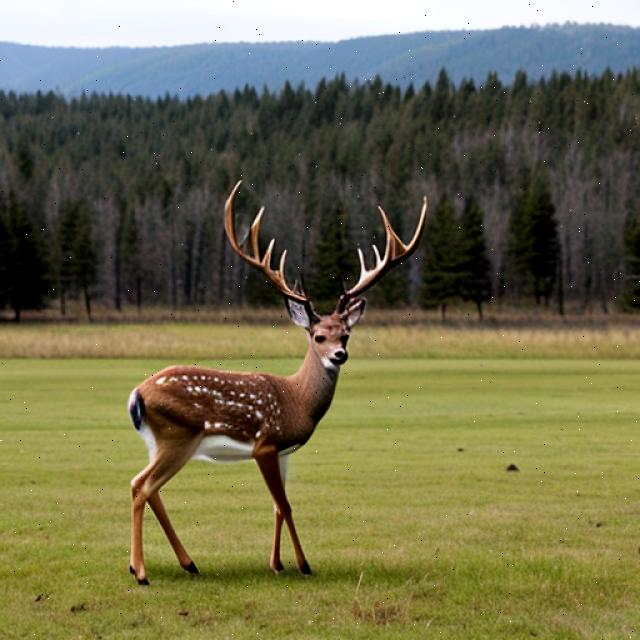deer: (62, 178, 452, 566)
